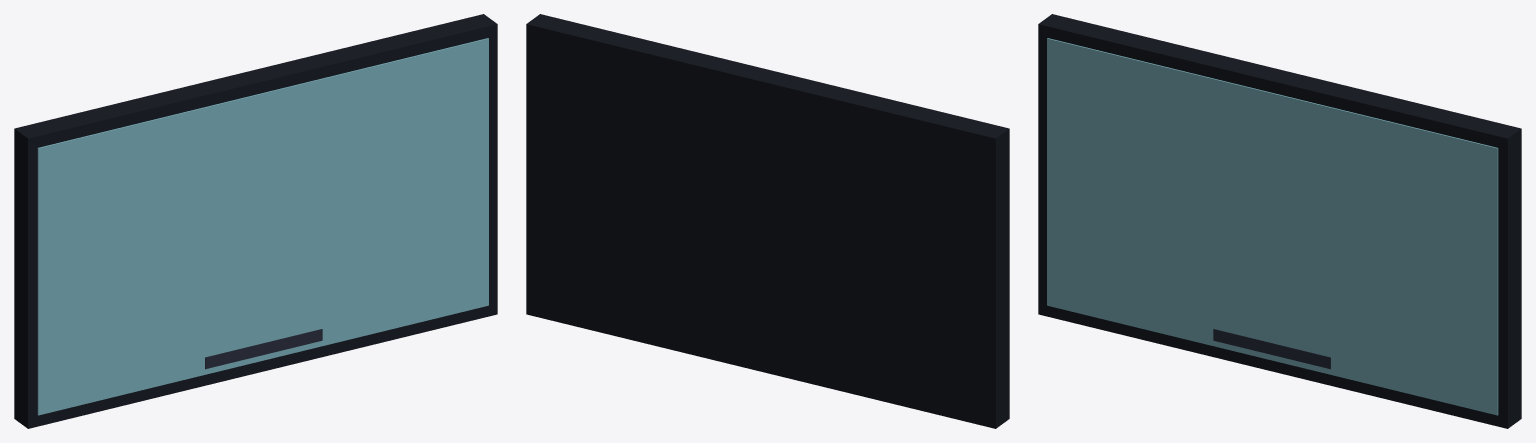
File: wall-tv.glb
The picture shows the model from 3 angles, left to right: view 1: azimuth 30°, elevation 25°; view 2: azimuth 150°, elevation 25°; view 3: azimuth 330°, elevation 25°; orthographic projection.
Parts seen in each view (by area): view 1: wall-tv; view 2: wall-tv; view 3: wall-tv.
Boxes of the visible parts, x1,y1,x2,y2 form: wall-tv: (14, 14, 497, 428); wall-tv: (526, 14, 1009, 428); wall-tv: (1038, 14, 1521, 428).
Bounding box in the file's own units: 110 × 65 × 6.
